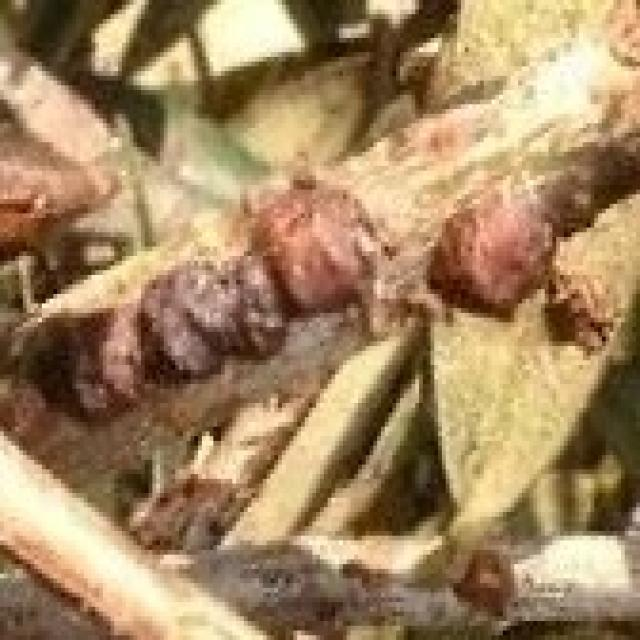Black Scale: (23, 175, 389, 435), (427, 190, 552, 313)
